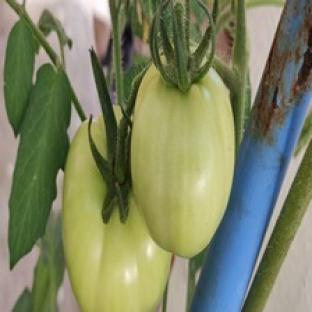Tomato: (63, 123, 171, 311), (131, 66, 235, 257)
